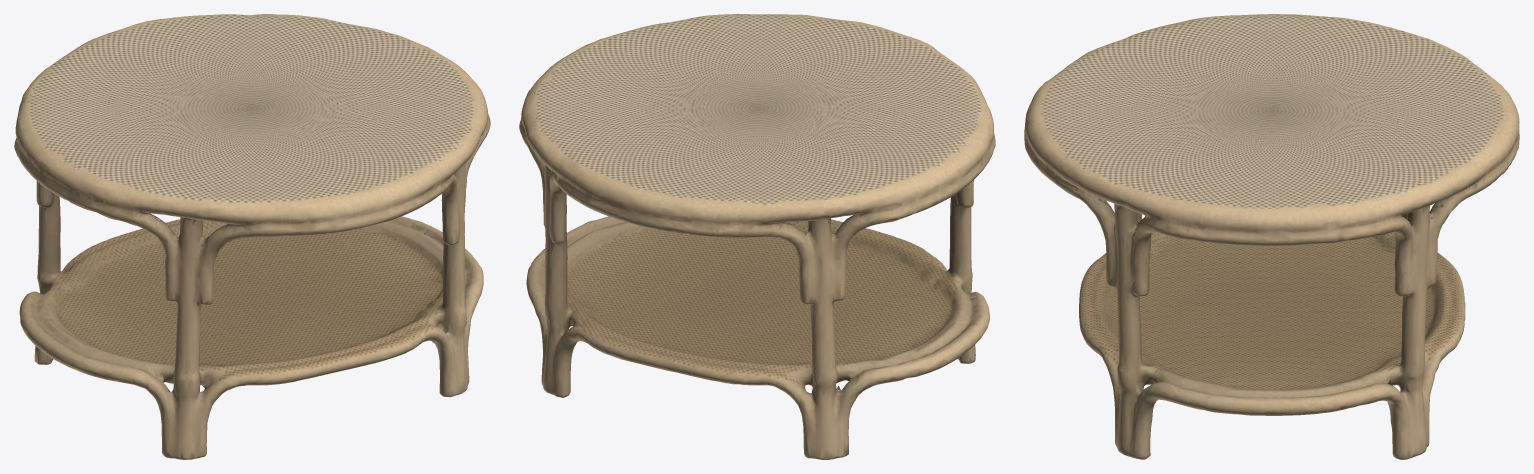
File: mdm-249384.glb
3 views of the same model, side by side, from view 1: azimuth 30°, elevation 25°; view 2: azimuth 150°, elevation 25°; view 3: azimuth 270°, elevation 25° (orthographic). The views are drawn at different scales.
Visible parts, largest first — view 1: Dabali; view 2: Dabali; view 3: Dabali.
Part boxes in pixels (x1,y1,x2,y2): Dabali: (14, 14, 490, 459); Dabali: (519, 14, 995, 459); Dabali: (1024, 14, 1519, 459).
Size of the model in its own units: 0.7038 by 0.4296 by 0.7042.
1 material, 1 textured.
